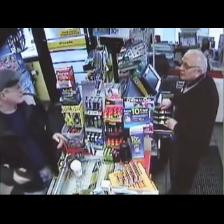person: (159, 49, 219, 194), (0, 70, 65, 193)
